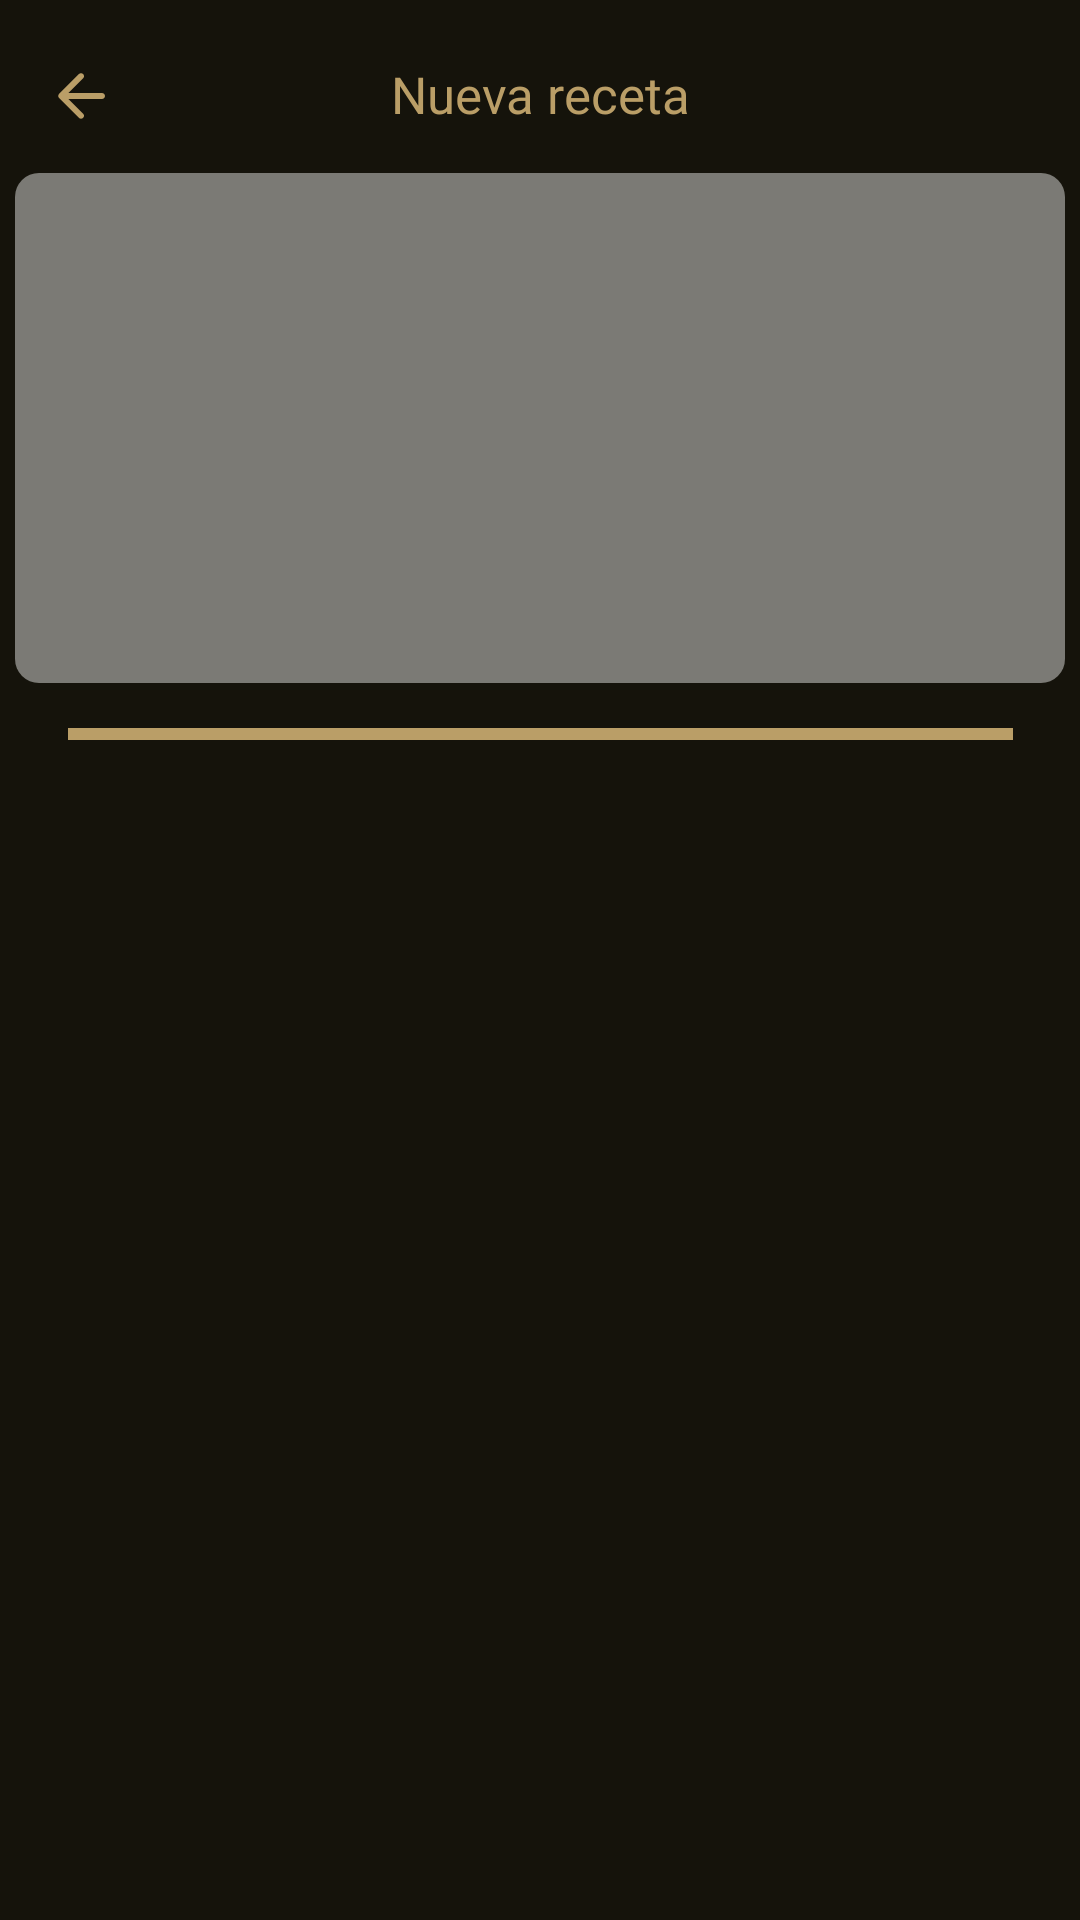

Icon click points for this 1080w x 1920h phone screenshot, format point (x, y):
arrow: point (81, 96)
